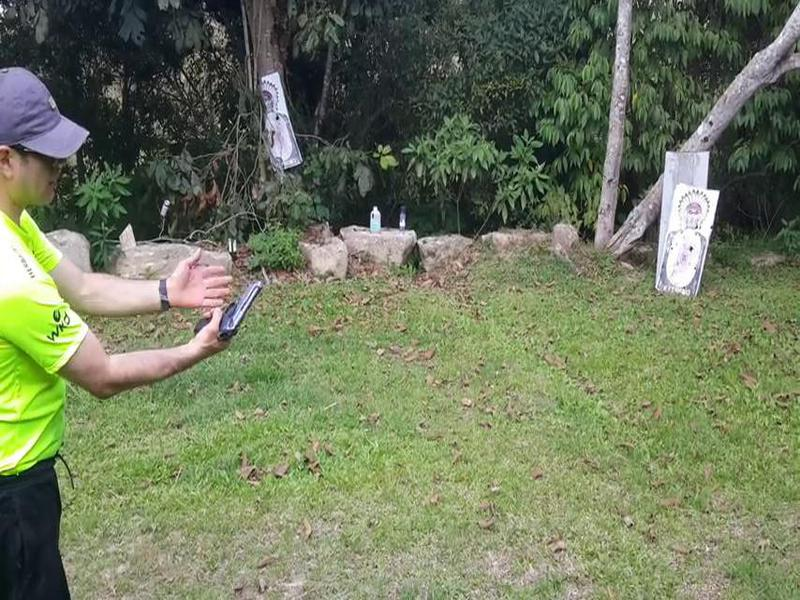Pistola: (193, 274, 270, 354)
